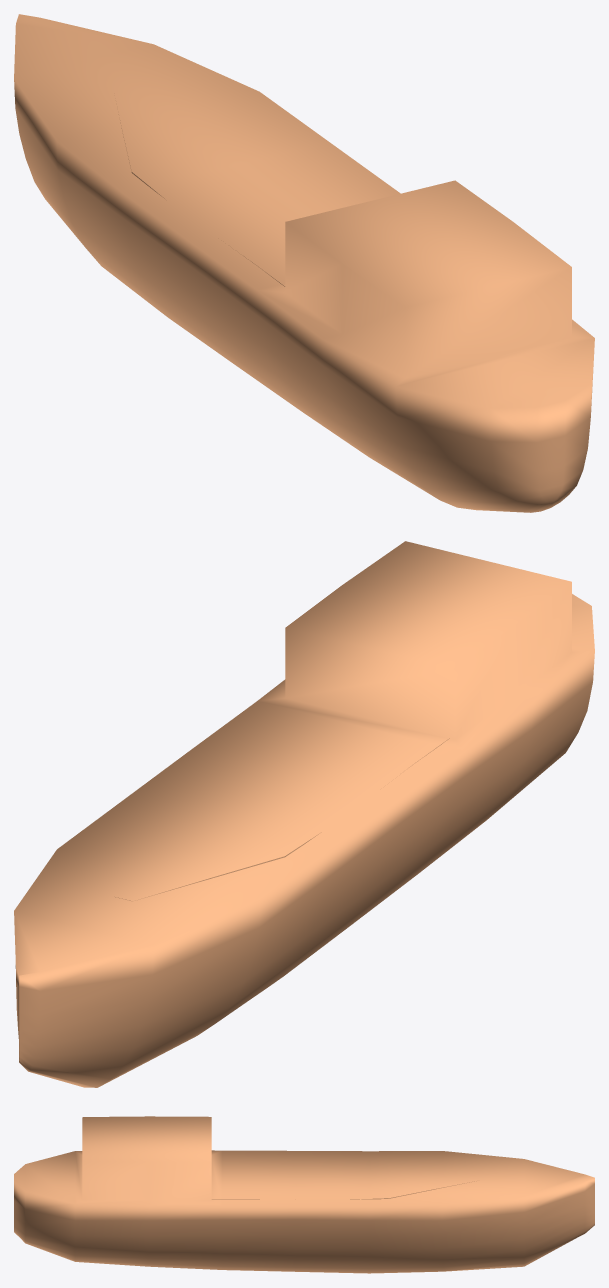
File: boatOrange.gltf
3 views of the same model, one above another, from view 1: azimuth 30°, elevation 25°; view 2: azimuth 150°, elevation 25°; view 3: azimuth 270°, elevation 25° (orthographic). The views are drawn at different scales.
Parts seen in each view (by area): view 1: Cylinder; view 2: Cylinder; view 3: Cylinder.
Part boxes in pixels (x1,y1,x2,y2): Cylinder: [14, 14, 594, 512]; Cylinder: [14, 541, 594, 1087]; Cylinder: [14, 1116, 594, 1273].
Bounding box in the file's own units: 3.05 × 3.31 × 13.31.
